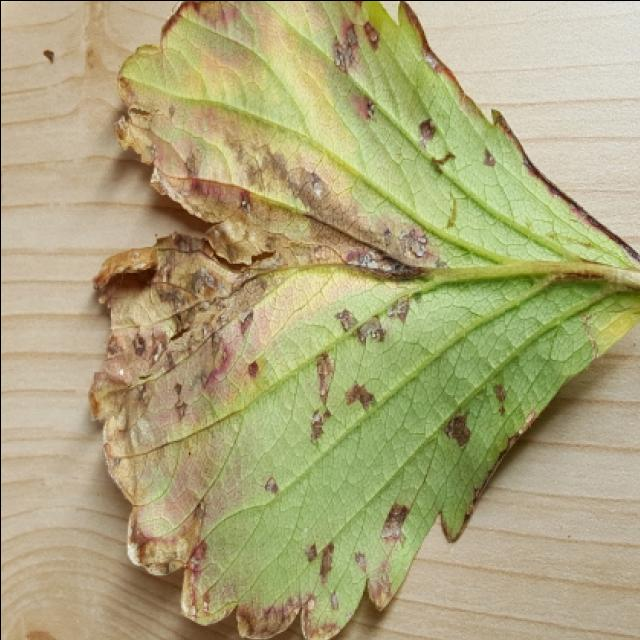Angular Leafspot: (85, 2, 638, 640)
